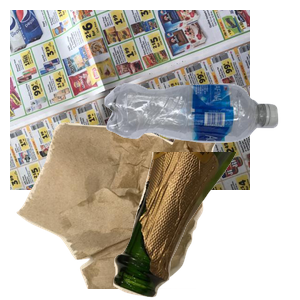glass: (111, 152, 300, 300)
paper: (10, 10, 250, 190)
plastic: (102, 81, 300, 216)
trash: (14, 120, 222, 300)
